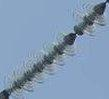gap: (47, 14, 101, 56)
